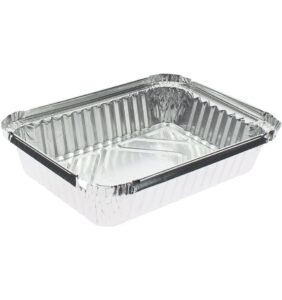metal: (1, 72, 281, 227)
